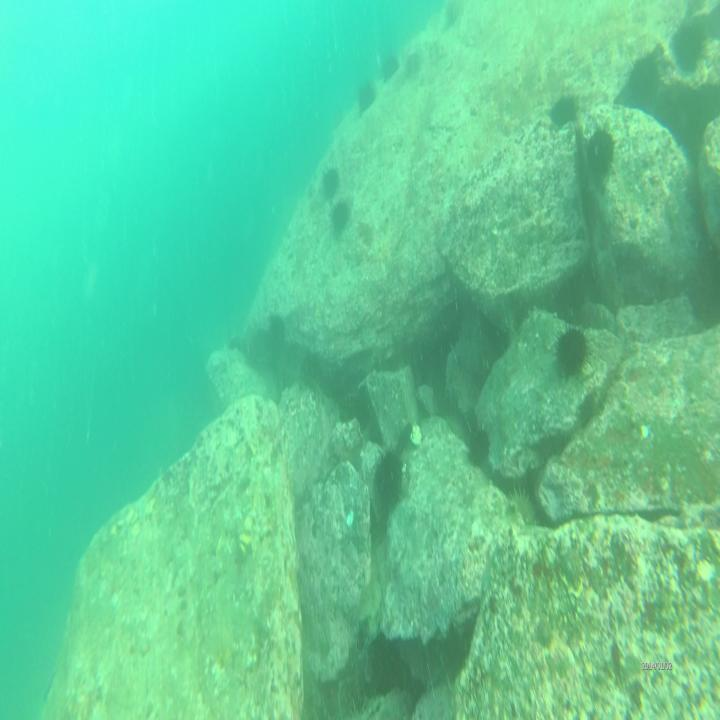echinus: (554, 324, 588, 371), (504, 486, 540, 529), (587, 129, 615, 175), (374, 450, 404, 492), (467, 424, 492, 469), (548, 90, 573, 129), (356, 77, 378, 108), (383, 50, 400, 88), (327, 206, 350, 232), (320, 170, 340, 198)
